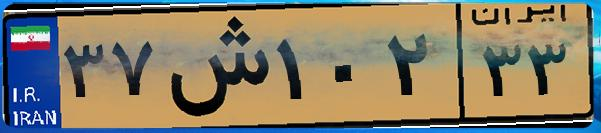0: (330, 28, 385, 110)
1: (270, 28, 330, 110)
2: (385, 28, 445, 110)
3: (57, 26, 110, 100), (475, 38, 525, 113), (525, 38, 570, 115)
7: (110, 28, 158, 98)
ش: (158, 12, 270, 120)
